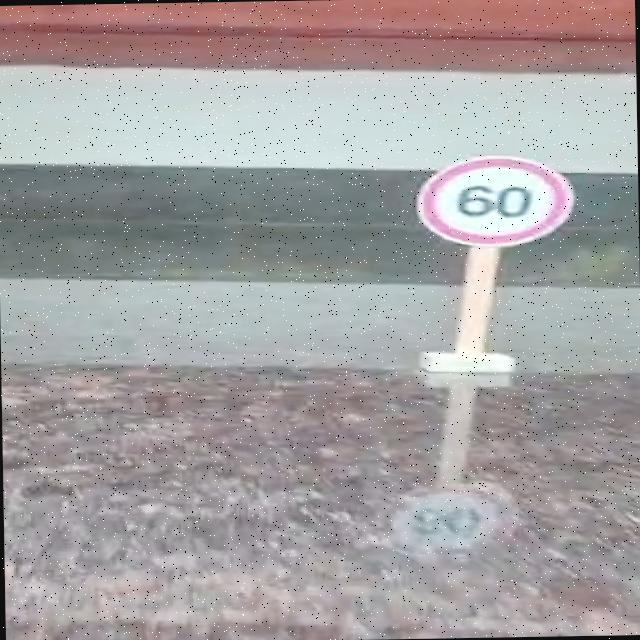Speed60: (390, 137, 592, 262)
